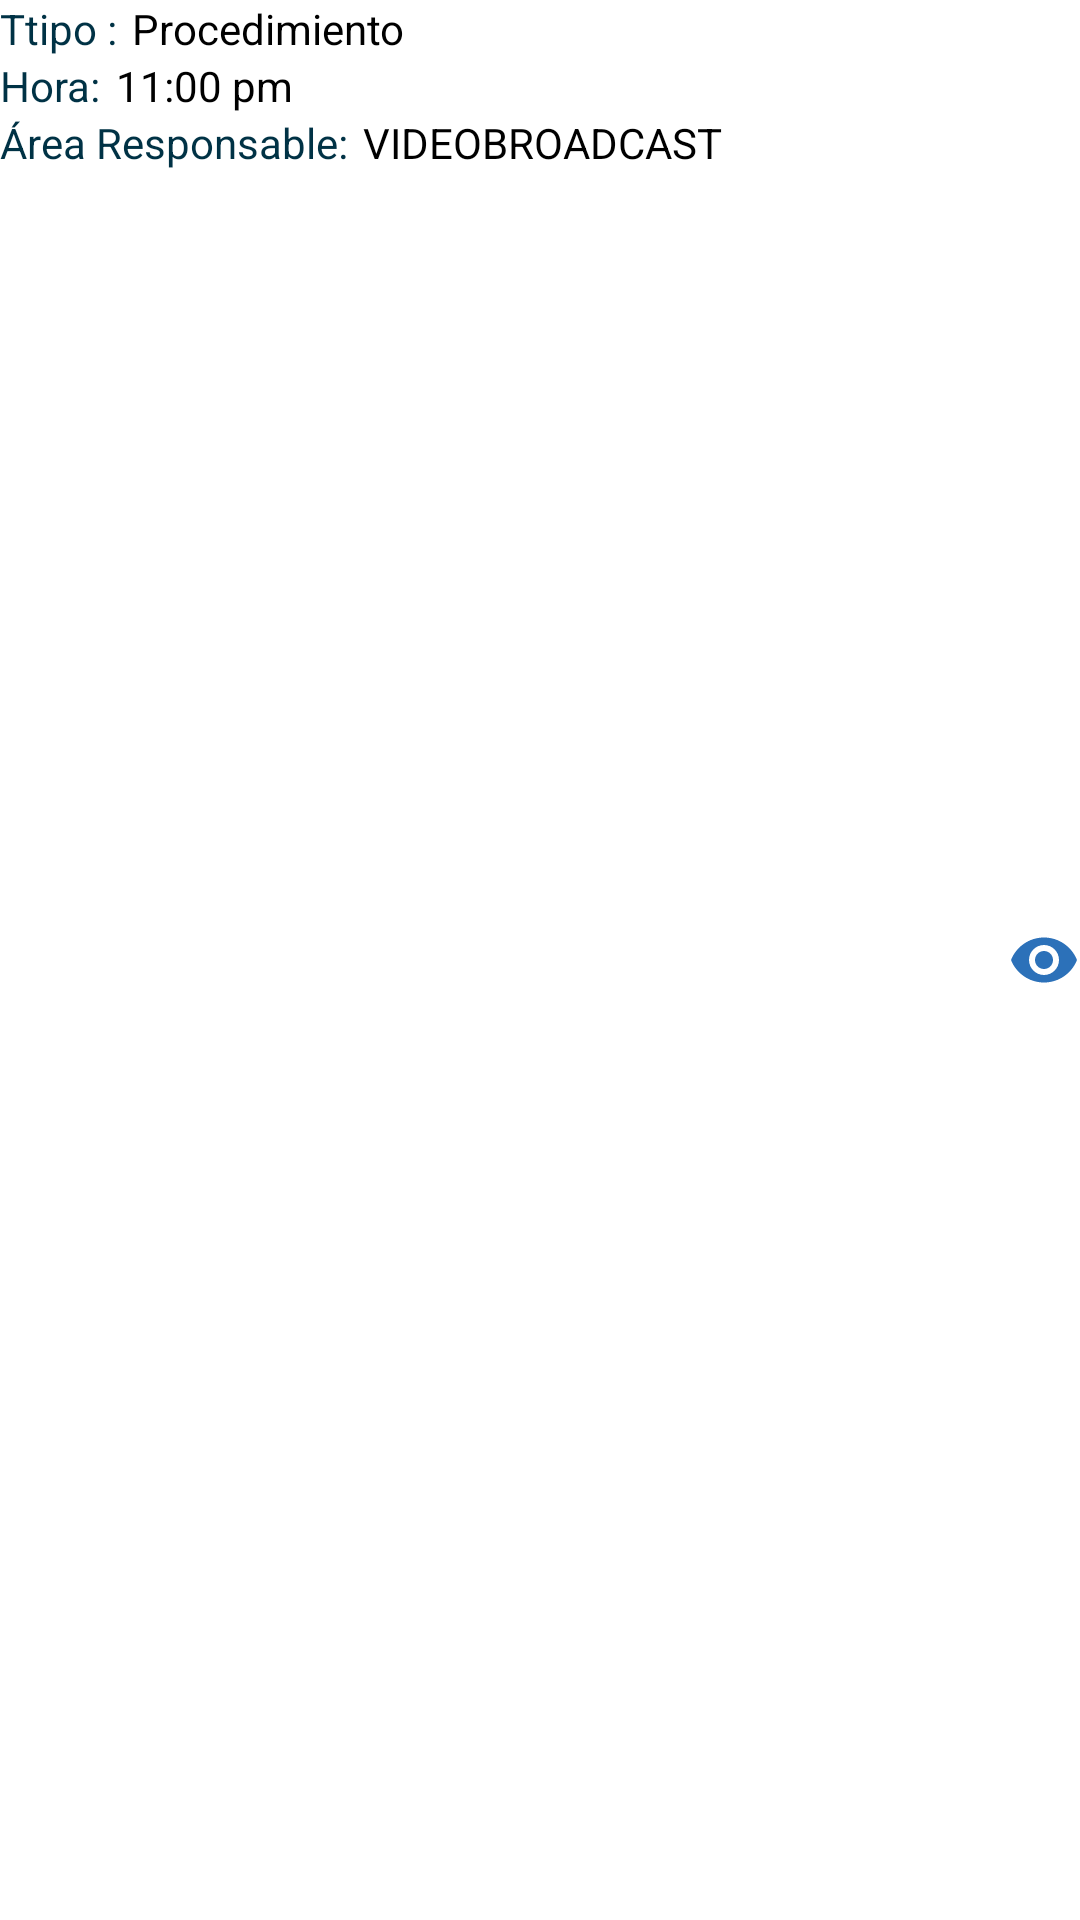

Icons on this 1080 × 1920 Android screen, each with its box as (x1, y1, x2, y2):
eye: (1011, 937, 1077, 983)
